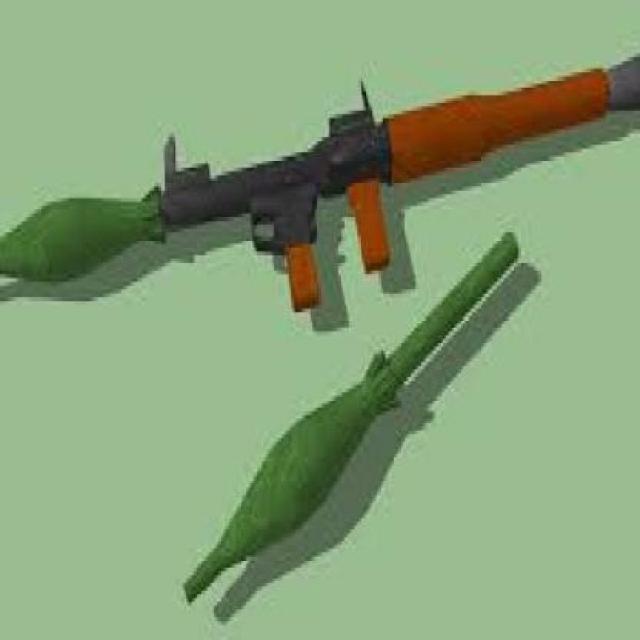weapon: (8, 35, 640, 299), (149, 212, 532, 629)
